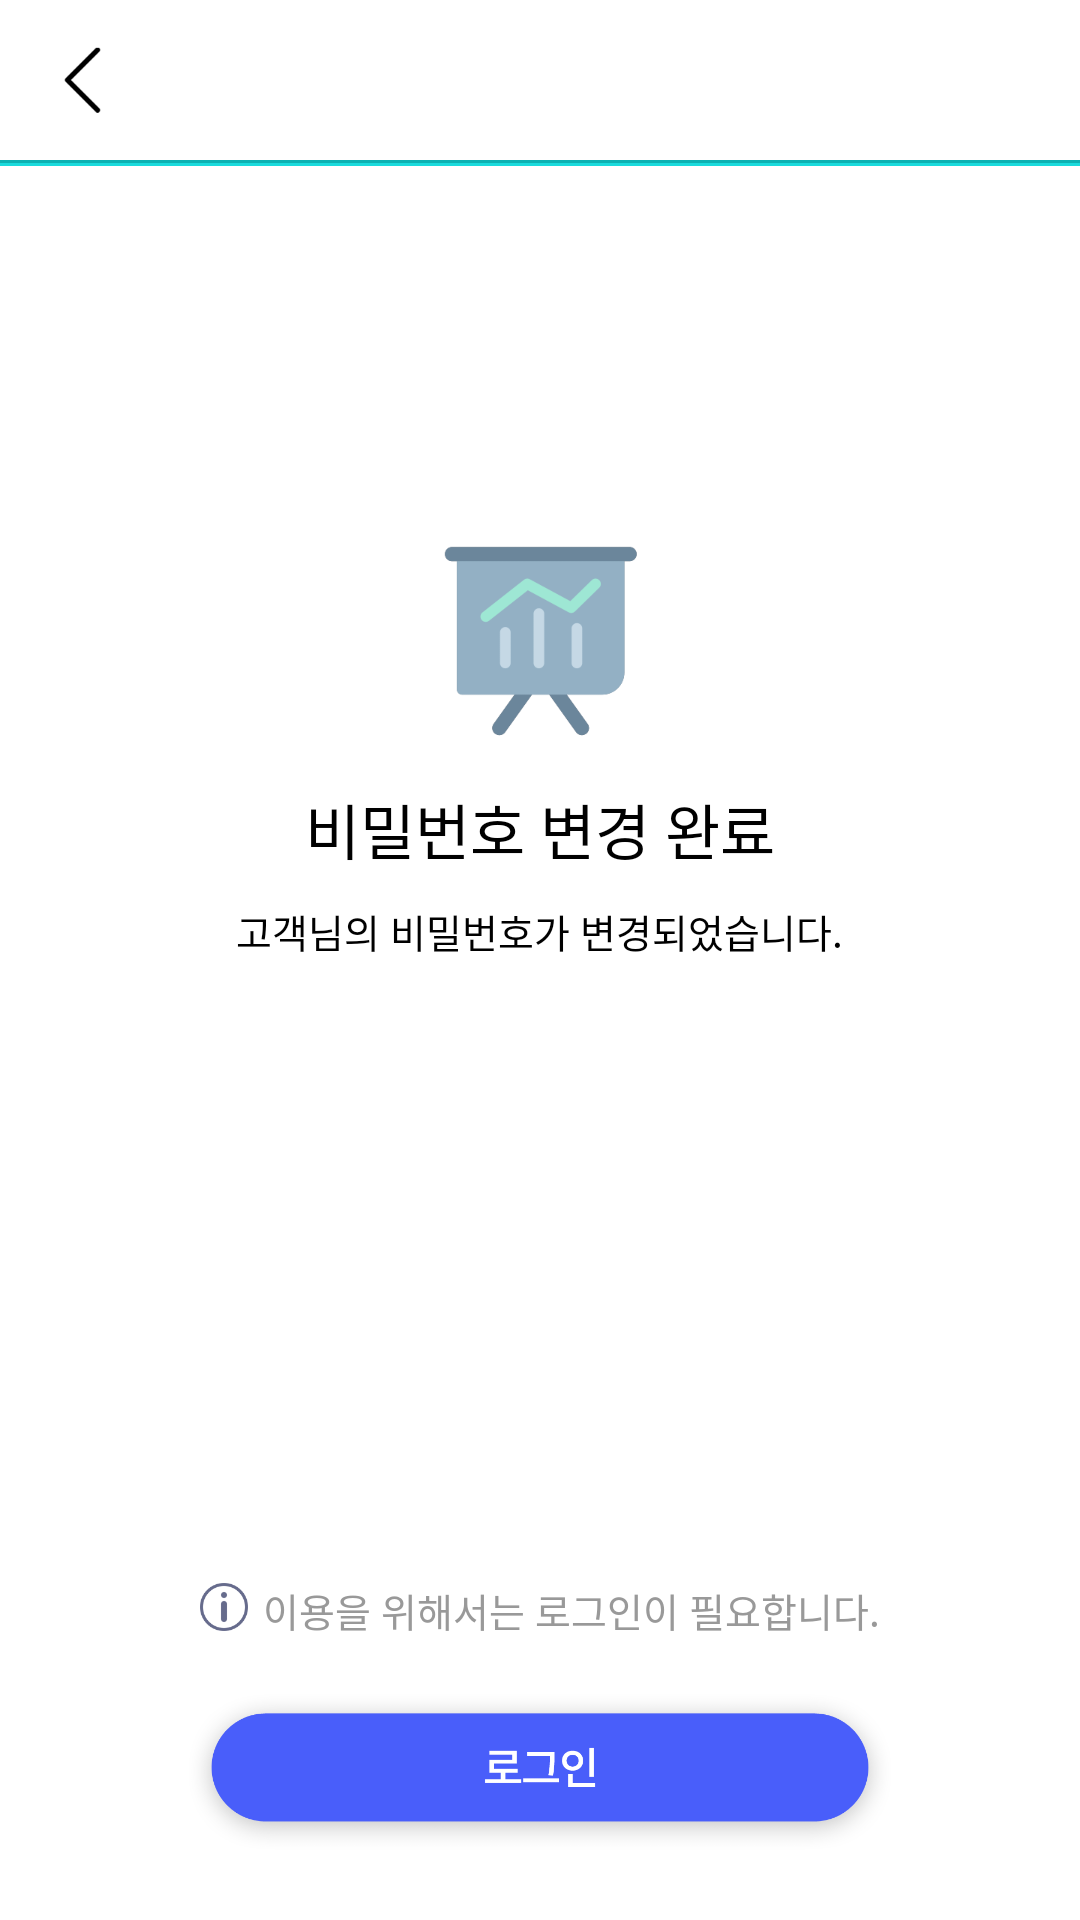

Icons on this 1080w x 1920h Android screen, each with the point to tap as (x,y):
graphics check: (541,641)
login info: (224,1607)
top back: (82,80)
